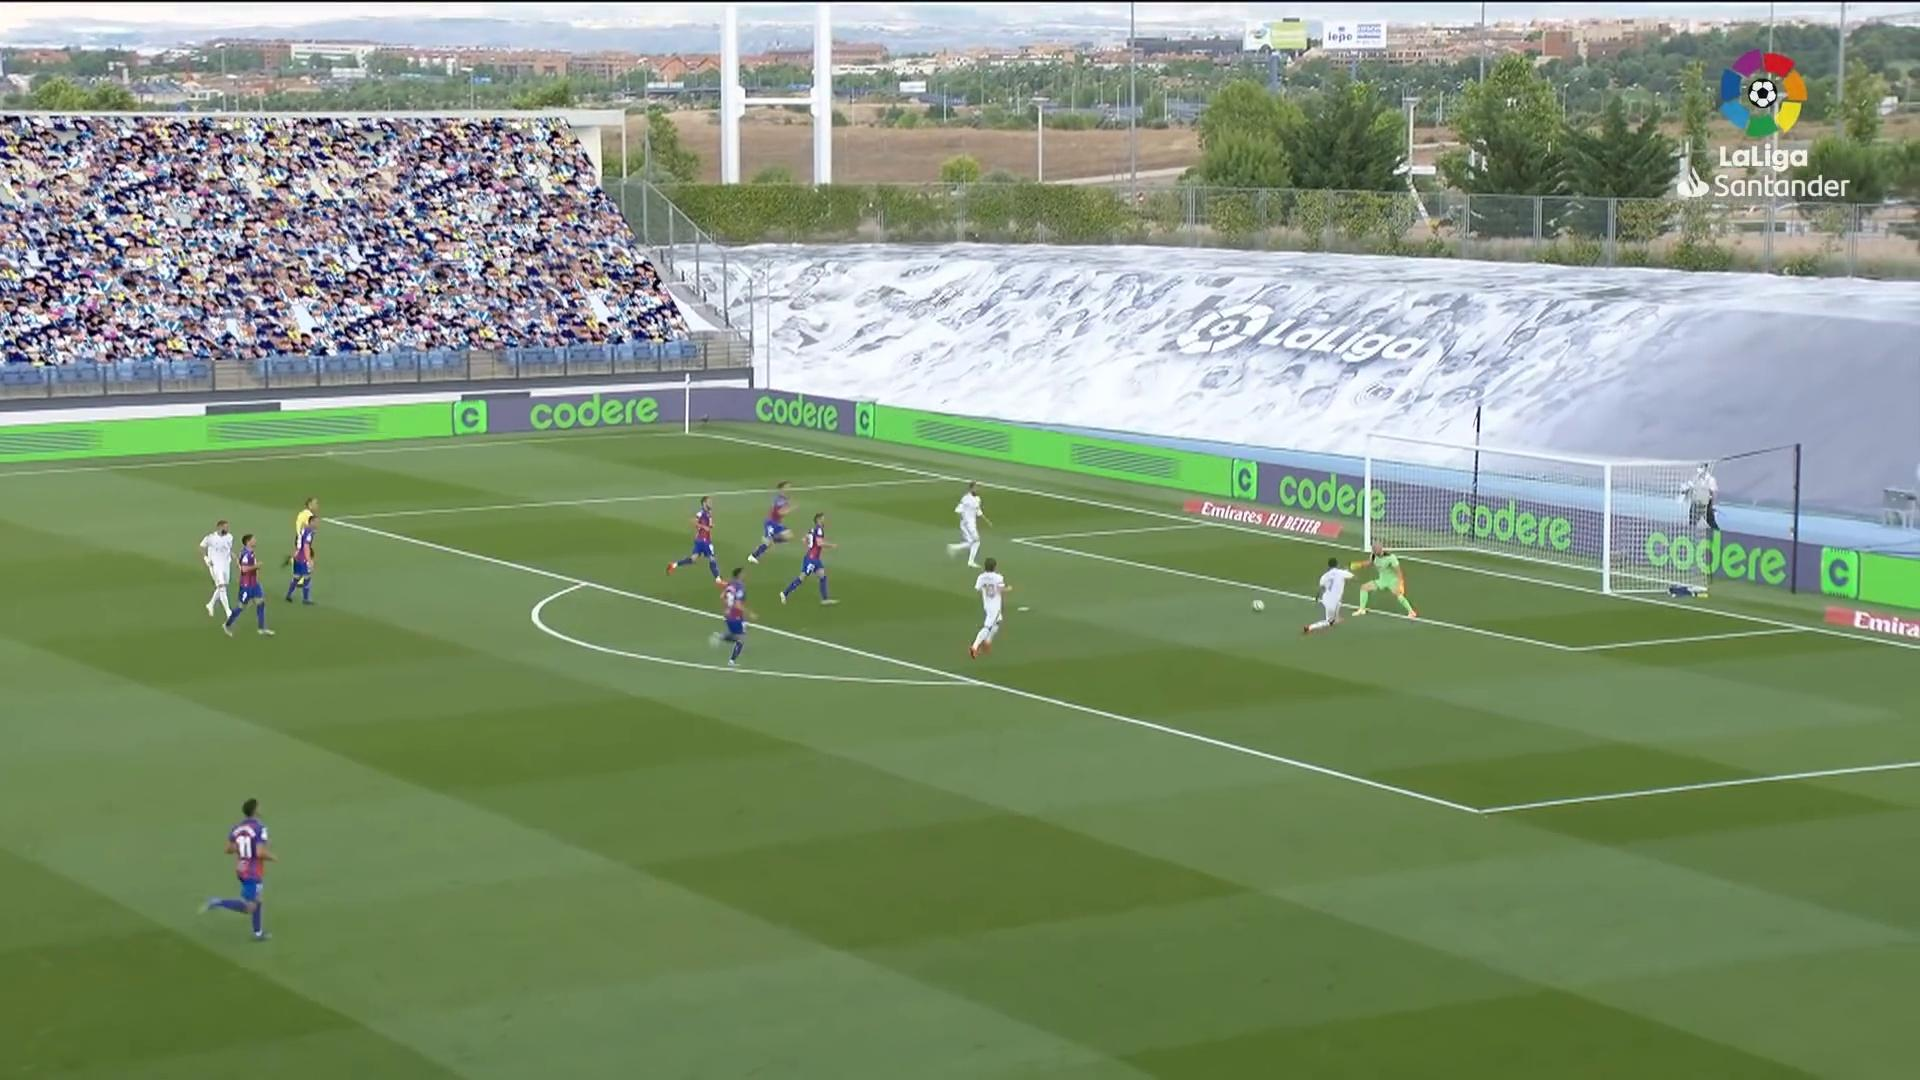ball: (279, 494, 325, 589), (1252, 597, 1267, 613)
goalkeeper: (1352, 540, 1420, 622)
player: (200, 794, 281, 946), (778, 514, 840, 614), (668, 496, 732, 590), (708, 568, 761, 673), (225, 532, 275, 643), (966, 557, 1017, 663), (196, 514, 242, 624), (1304, 556, 1358, 641), (747, 478, 796, 568), (949, 478, 995, 571), (278, 516, 320, 612)
